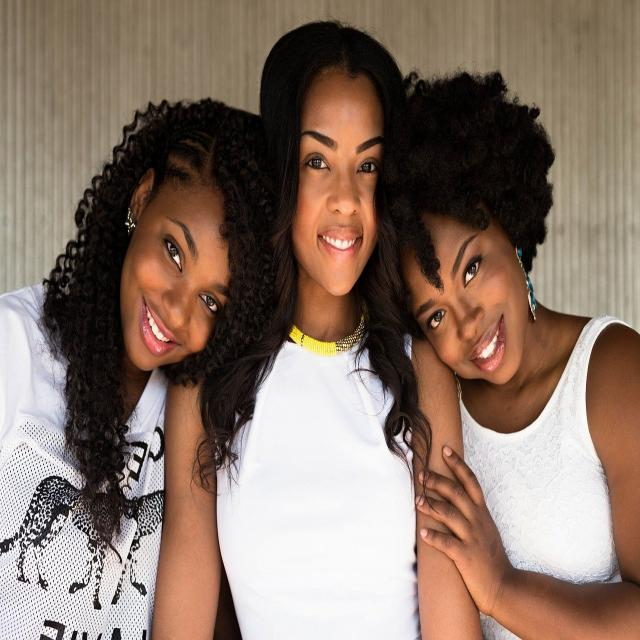face: (409, 213, 531, 384), (293, 82, 386, 298), (122, 191, 232, 373)
